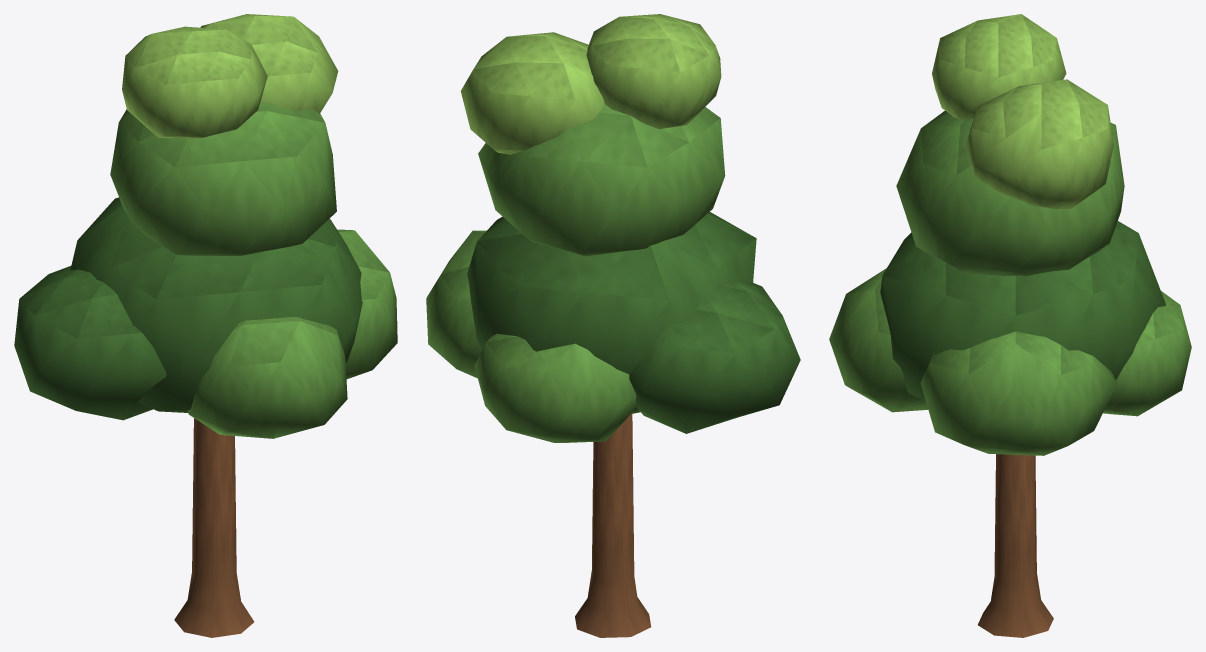
Rendered from tree_round_02.glb.
3 views of the same model, side by side, from view 1: azimuth 30°, elevation 25°; view 2: azimuth 150°, elevation 25°; view 3: azimuth 270°, elevation 25° (orthographic). The views are drawn at different scales.
Parts seen in each view (by area): view 1: tree_round_02; view 2: tree_round_02; view 3: tree_round_02.
Part boxes in pixels (<box>): tree_round_02: <box>14,14,397,637</box>; tree_round_02: <box>426,14,800,637</box>; tree_round_02: <box>829,14,1191,637</box>.
Bounding box in the file's own units: 4.54 × 7.44 × 4.19.
Materials: 1 (1 with a texture image).
